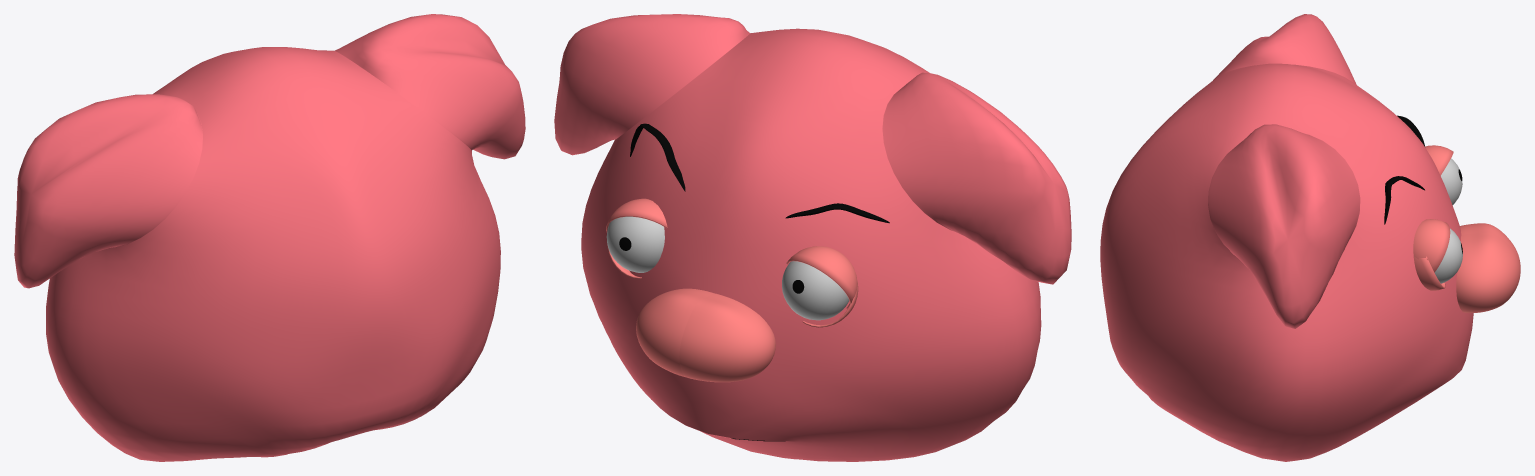
Rendered from [4]leftBrow.obj.
The picture shows the model from 3 angles, left to right: view 1: azimuth 30°, elevation 25°; view 2: azimuth 150°, elevation 25°; view 3: azimuth 270°, elevation 25°; orthographic projection. The views are drawn at different scales.
Visible parts, largest first — view 1: Head_Roundcube; view 2: Head_Roundcube, Head.002_Roundcube.002, Eyeball.001_Sphere.005, Eyeball_Sphere, Eyelid_Bottom_Left.003_Sphere.011, Head.001_Roundcube.001, Eyelid_Bottom_Left.002_Sphere.009; view 3: Head_Roundcube, Head.002_Roundcube.002, Eyelid_Bottom_Left.002_Sphere.009, Eyeball_Sphere, Eyeball.001_Sphere.005, Eyelid_Bottom_Left_Sphere.003, Head.001_Roundcube.001, Eyelid_Bottom_Left.003_Sphere.011.
Boxes of the visible parts, x1=… form: Head_Roundcube: x1=14, y1=14, x2=525, y2=461; Head_Roundcube: x1=554, y1=14, x2=1071, y2=461; Head.002_Roundcube.002: x1=636, y1=288, x2=775, y2=382; Eyeball.001_Sphere.005: x1=782, y1=261, x2=849, y2=320; Eyeball_Sphere: x1=606, y1=216, x2=664, y2=272; Eyelid_Bottom_Left.003_Sphere.011: x1=786, y1=246, x2=857, y2=308; Head.001_Roundcube.001: x1=630, y1=123, x2=889, y2=223; Eyelid_Bottom_Left.002_Sphere.009: x1=606, y1=198, x2=667, y2=232; Head_Roundcube: x1=1100, y1=14, x2=1473, y2=461; Head.002_Roundcube.002: x1=1456, y1=223, x2=1520, y2=312; Eyelid_Bottom_Left.002_Sphere.009: x1=1413, y1=219, x2=1450, y2=272; Eyeball_Sphere: x1=1434, y1=228, x2=1462, y2=283; Eyeball.001_Sphere.005: x1=1441, y1=158, x2=1462, y2=205; Eyelid_Bottom_Left_Sphere.003: x1=1413, y1=256, x2=1445, y2=290; Head.001_Roundcube.001: x1=1384, y1=115, x2=1424, y2=224; Eyelid_Bottom_Left.003_Sphere.011: x1=1425, y1=145, x2=1453, y2=175.
Size of the model in its own units: 3.92 by 2.85 by 3.16.
